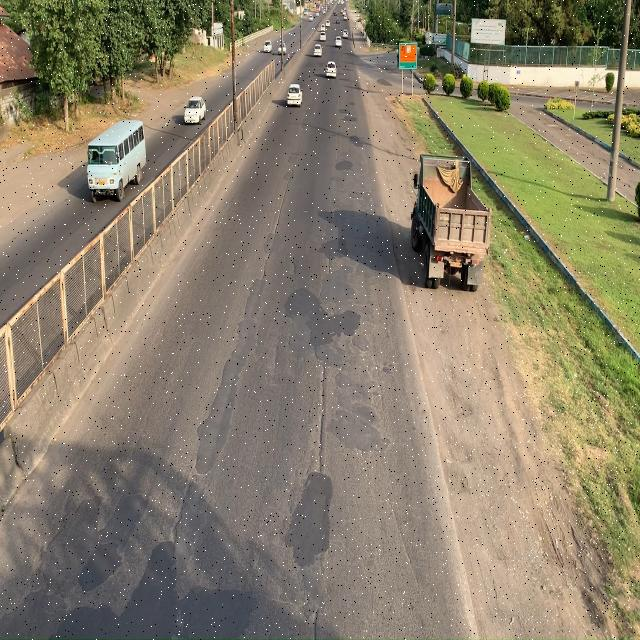Bus: (86, 118, 144, 202)
Truck: (411, 150, 494, 290)
